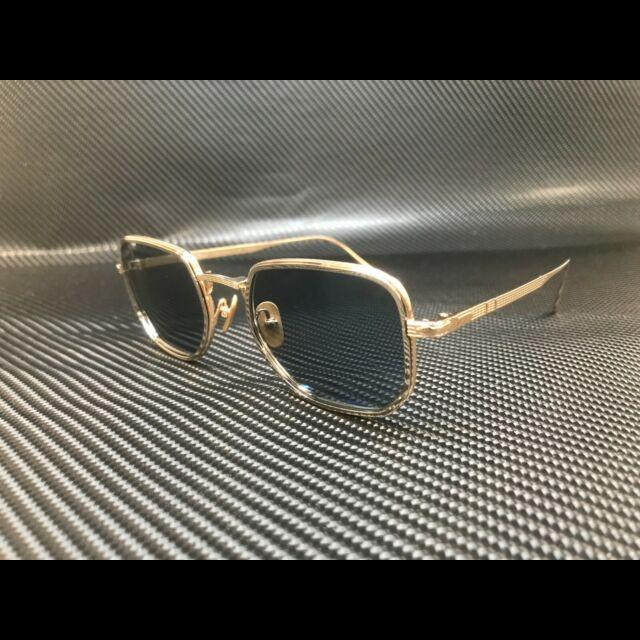sunglasses: (115, 232, 573, 414)
